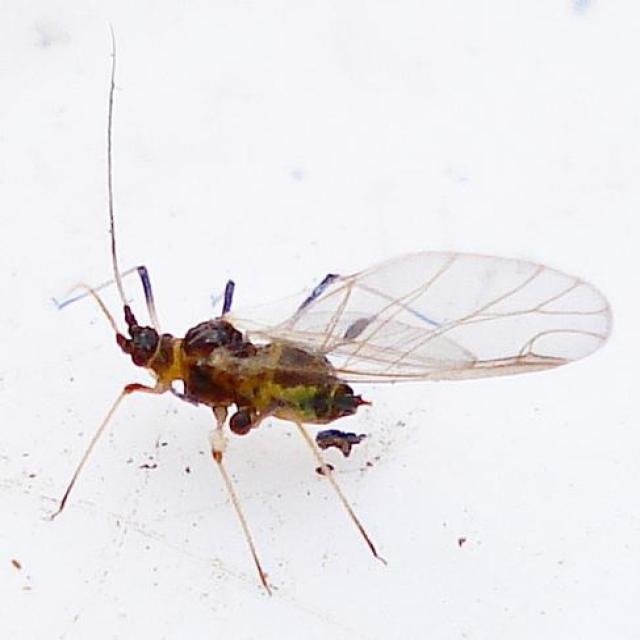Aphids: (51, 98, 590, 573)
